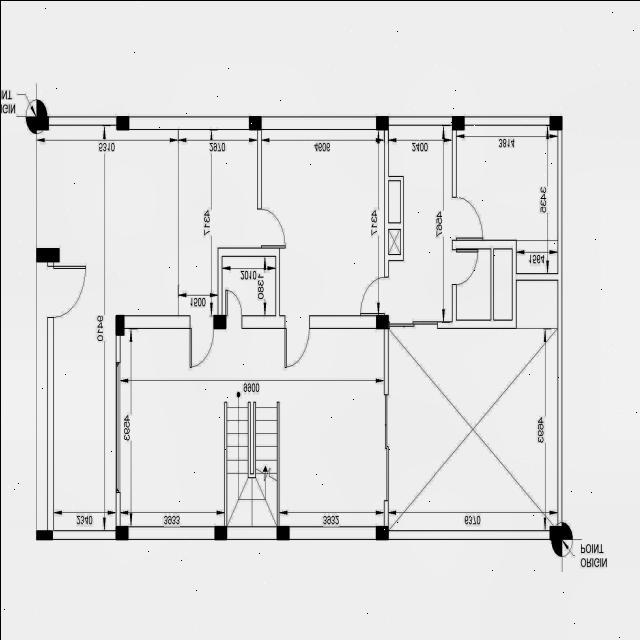Column: (35, 247, 59, 261), (548, 114, 562, 130), (114, 525, 128, 539), (548, 525, 562, 539), (34, 115, 48, 129), (115, 314, 124, 335), (375, 525, 388, 539), (212, 314, 225, 328), (115, 115, 128, 129), (214, 525, 226, 539), (276, 525, 288, 539), (376, 314, 388, 328), (452, 116, 464, 130), (376, 115, 388, 129), (248, 115, 260, 129), (36, 529, 51, 539)
Door: (46, 261, 85, 317), (450, 196, 482, 240), (284, 314, 308, 368), (188, 314, 212, 366), (256, 208, 285, 248), (360, 276, 388, 314), (451, 248, 478, 284), (225, 289, 241, 328)
Sliding Door: (383, 394, 387, 501)
Staircase: (226, 389, 276, 525)
Window: (114, 362, 120, 492)
